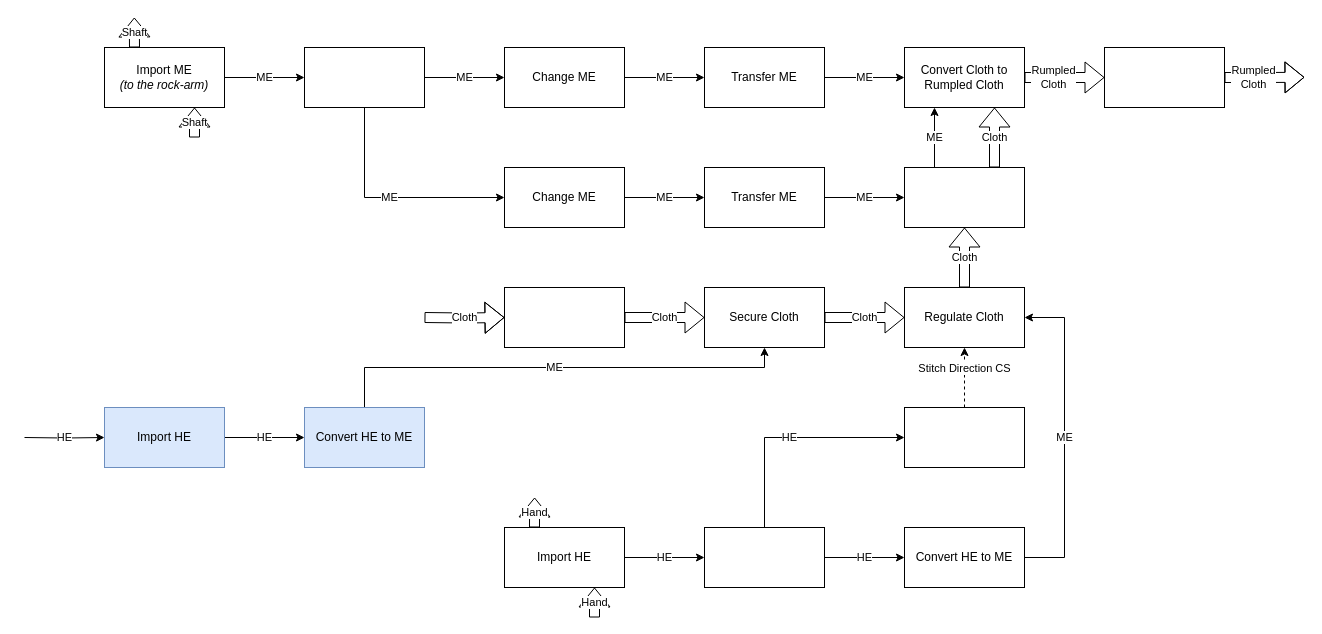
The diagram is 1322 pixels wide and 634 high, and some of its shapes have lost their labels. The box of each missing label's shape, as (x1, y1, x2, y2) in pixels:
Convert HE to CS: (904, 406, 1024, 468)
Distribute HE: (704, 526, 824, 588)
Distribute ME: (304, 46, 424, 108)
Export Rumpled Cloth: (1104, 46, 1224, 108)
Guide Cloth: (904, 166, 1024, 228)
Import Cloth: (504, 286, 624, 348)
